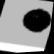correct: (17, 4, 53, 37)
